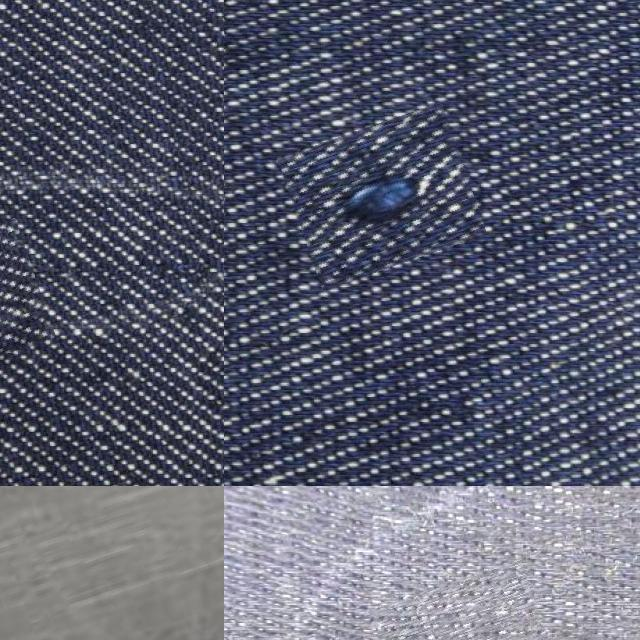stains: (0, 486, 224, 640), (285, 114, 477, 278), (384, 568, 576, 640), (0, 230, 46, 380)
